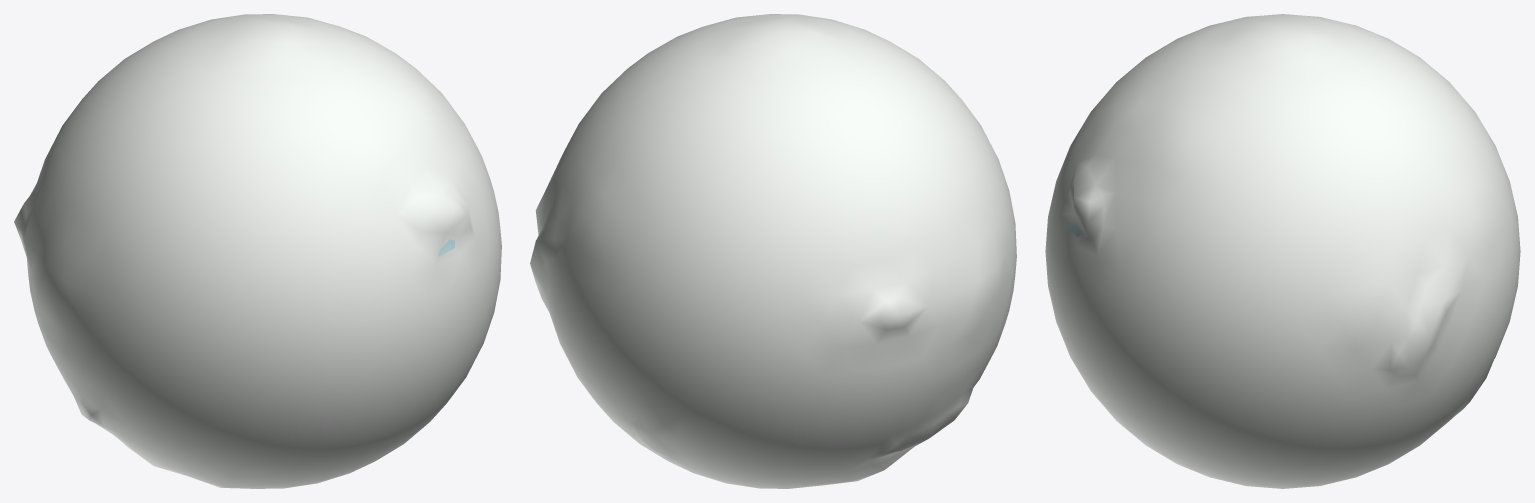
File: EarthComplete.fbx
The picture shows the model from 3 angles, left to right: view 1: azimuth 30°, elevation 25°; view 2: azimuth 150°, elevation 25°; view 3: azimuth 270°, elevation 25°; orthographic projection.
Parts seen in each view (by area): view 1: Union_6; view 2: Union_6; view 3: Union_6.
Boxes of the visible parts, bbox=[...] form: Union_6: bbox=[14, 14, 501, 488]; Union_6: bbox=[530, 14, 1016, 488]; Union_6: bbox=[1045, 14, 1520, 488].
Bounding box in the file's own units: 10462 × 10450 × 10353.
